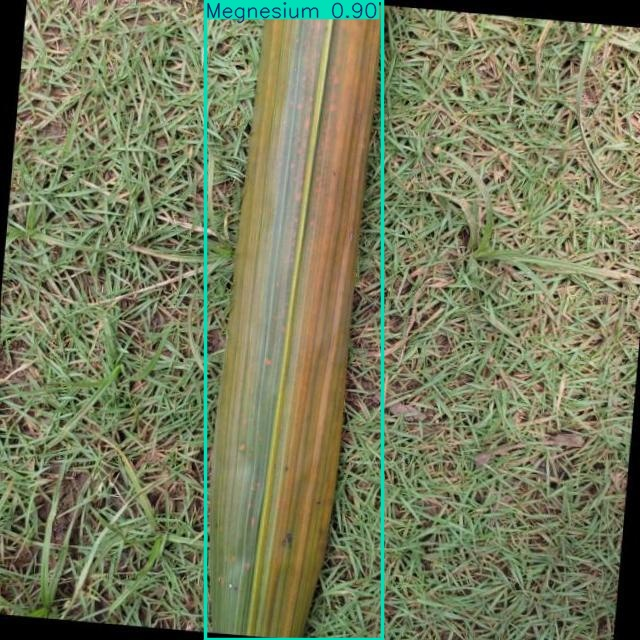Megnesium: (205, 0, 383, 639)
